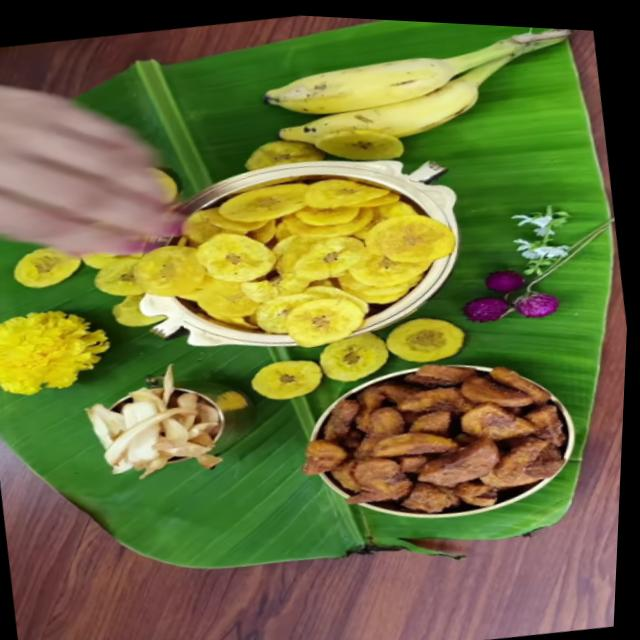BANANA: (277, 30, 568, 138)
BANANA CHIPS: (138, 178, 449, 347), (254, 319, 465, 399)
